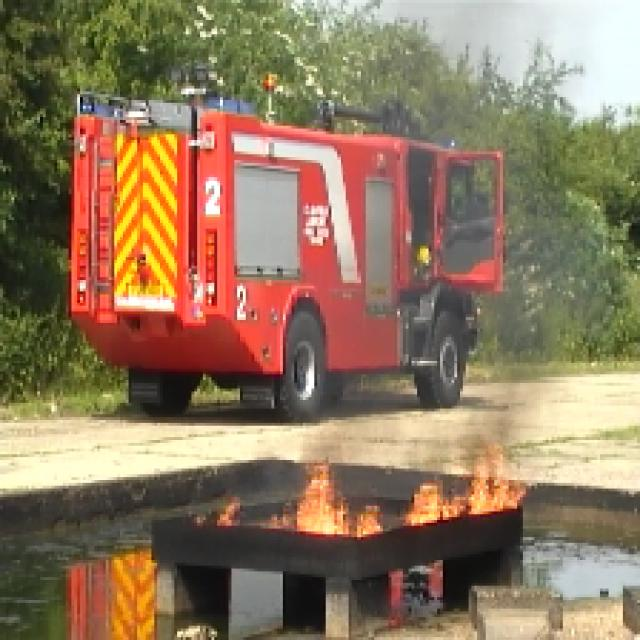fire: (284, 480, 517, 533)
